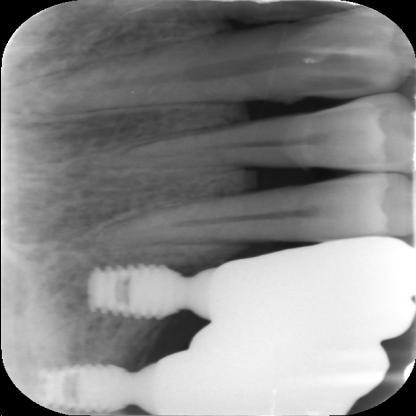Bicon: (82, 258, 188, 324), (50, 362, 148, 412)
